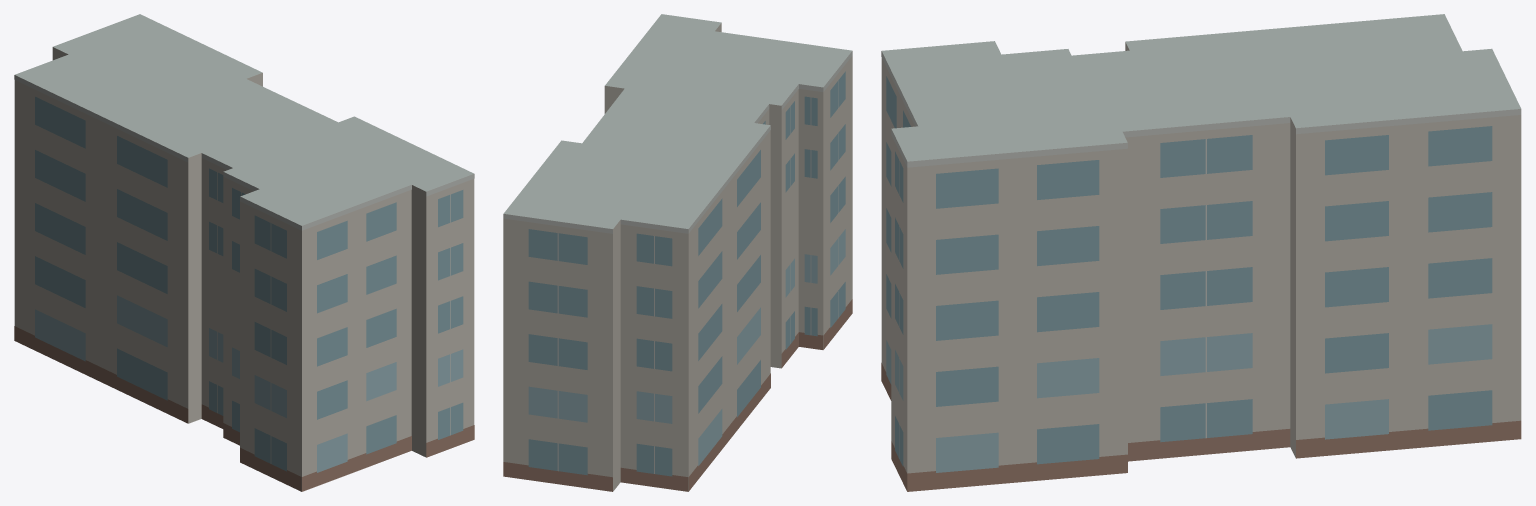
Rendered from survey-upis-32683430.glb.
The picture shows the model from 3 angles, left to right: view 1: azimuth 30°, elevation 25°; view 2: azimuth 150°, elevation 25°; view 3: azimuth 270°, elevation 25°; orthographic projection. The views are drawn at different scales.
Parts seen in each view (by area): view 1: survey-upis-32683430.tmp; view 2: survey-upis-32683430.tmp; view 3: survey-upis-32683430.tmp.
Boxes of the visible parts, <box> form: survey-upis-32683430.tmp: <box>14,14,474,491</box>; survey-upis-32683430.tmp: <box>503,14,852,491</box>; survey-upis-32683430.tmp: <box>881,14,1521,491</box>.
Bounding box in the file's own units: 12.86 × 13.4 × 23.54.
